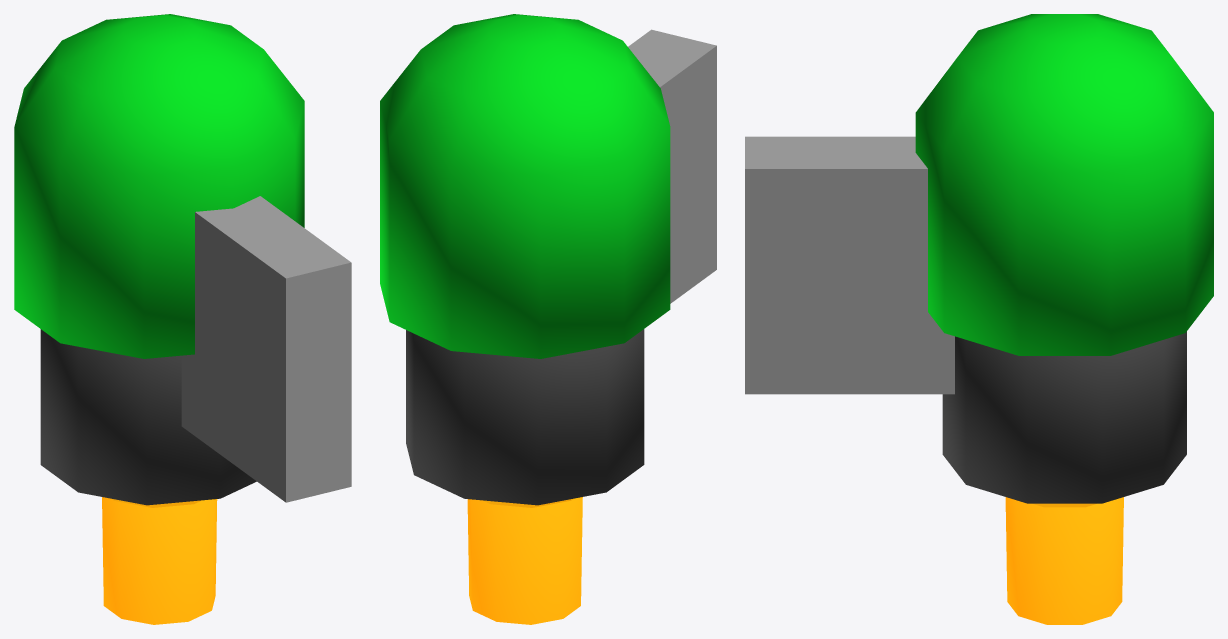
The model's file is directional.glb.
3 views of the same model, side by side, from view 1: azimuth 30°, elevation 25°; view 2: azimuth 150°, elevation 25°; view 3: azimuth 270°, elevation 25° (orthographic).
Parts seen in each view (by area): view 1: Cube.058, boost-part.009; view 2: Cube.058, boost-part.009; view 3: Cube.058, boost-part.009.
Boxes of the visible parts, x1,y1,x2,y2 form: Cube.058: [14, 14, 351, 507]; boost-part.009: [102, 497, 217, 624]; Cube.058: [380, 14, 716, 507]; boost-part.009: [467, 497, 582, 624]; Cube.058: [745, 14, 1213, 507]; boost-part.009: [1005, 497, 1123, 624].
Bounding box in the file's own units: 0.1072 × 0.2387 × 0.1772.
